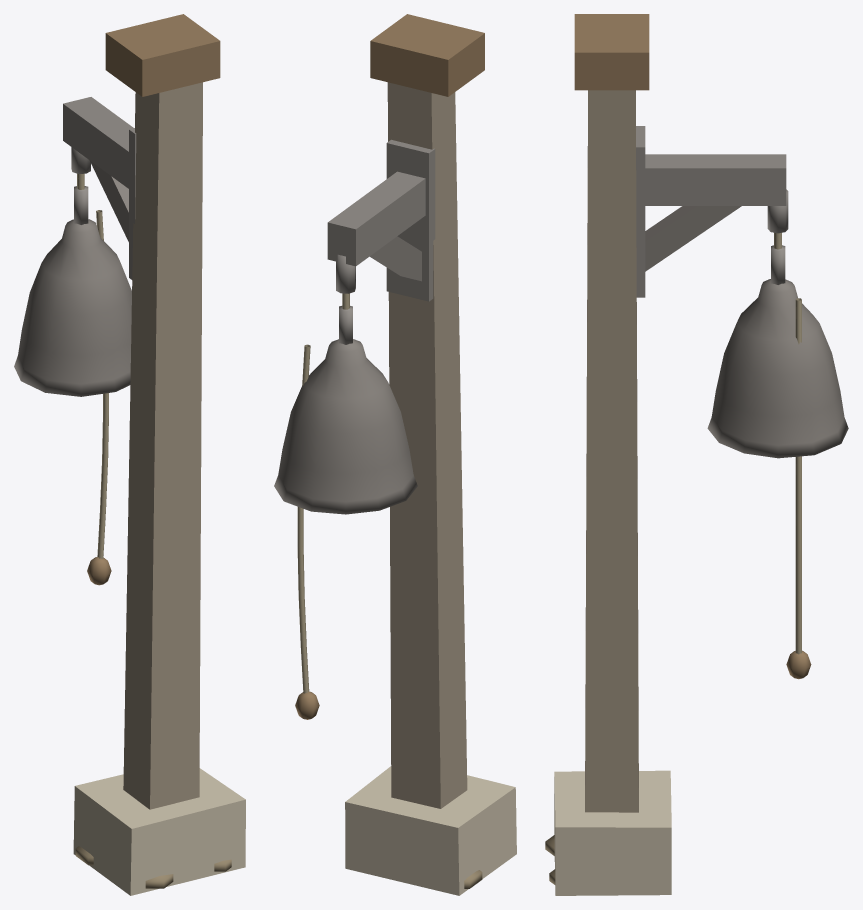
File: leper_bell_post.glb
3 views of the same model, side by side, from view 1: azimuth 30°, elevation 25°; view 2: azimuth 150°, elevation 25°; view 3: azimuth 270°, elevation 25° (orthographic).
Visible parts, largest first — view 1: Bell_Wood, Bell_Iron; view 2: Bell_Wood, Bell_Iron; view 3: Bell_Wood, Bell_Iron.
Part boxes in pixels (x1,y1,x2,y2): Bell_Wood: (73,14,245,895); Bell_Iron: (14,97,136,585); Bell_Wood: (345,14,516,895); Bell_Iron: (274,139,435,719); Bell_Wood: (545,14,671,895); Bell_Iron: (636,126,848,679).
Bounding box in the file's own units: 0.3525 × 2.22 × 0.7306.
